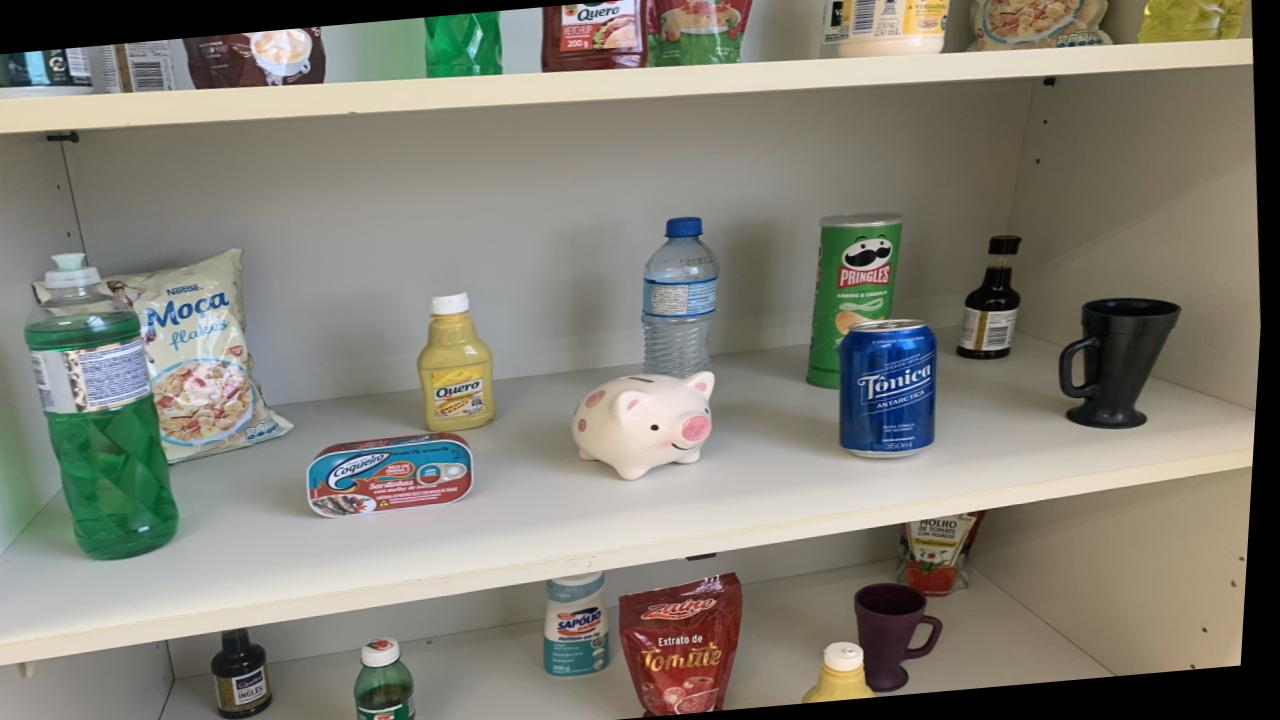Cleaner-Cleanup_Items: (551, 571, 618, 677)
Coffee-Pantry_Items: (183, 27, 326, 90)
Detergent-Cleanup_Items: (27, 253, 186, 560), (424, 11, 504, 79), (1137, 0, 1246, 43)
English_Sauce-Pantry_Items: (961, 236, 1025, 360), (219, 628, 281, 720), (98, 40, 175, 93)
Flakes-Snacks: (103, 249, 297, 463), (969, 0, 1112, 52)
Guarana-Drinks: (363, 637, 424, 720)
Guarana_Can-Drinks: (0, 47, 95, 99)
Ketchup-Pantry_Items: (542, 0, 648, 72)
Mayonnaise-Pantry_Items: (839, 0, 950, 58)
Mustard-Pantry_Items: (420, 293, 500, 432), (810, 641, 883, 703)
Pig_Safe-Miscellaneous: (576, 371, 720, 481)
Pringles-Snacks: (812, 213, 904, 388)
Soda-Drinks: (819, 0, 843, 58)
Tomato_Sauce-Pantry_Items: (625, 573, 749, 716), (903, 510, 993, 597), (649, 0, 752, 66)
Tonic-Drinks: (843, 319, 941, 459)
Tuna_Can-Pantry_Items: (312, 431, 480, 518)
Water_Bottle-Drinks: (644, 217, 723, 379)
